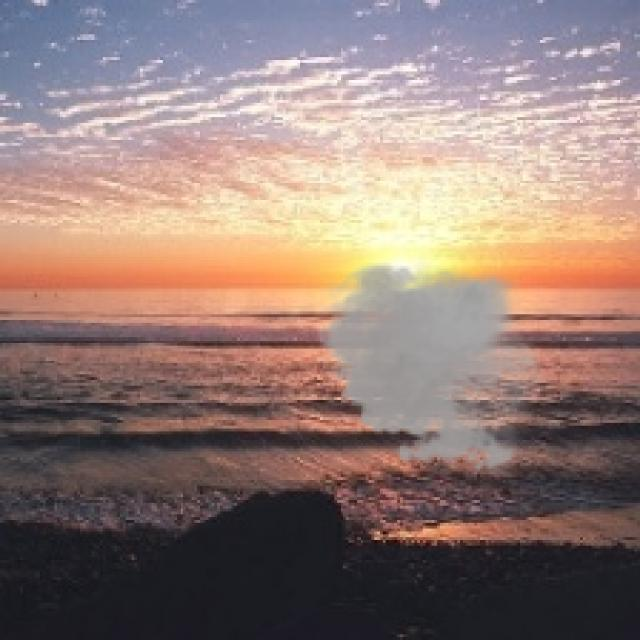Smoke: (308, 254, 554, 477)
